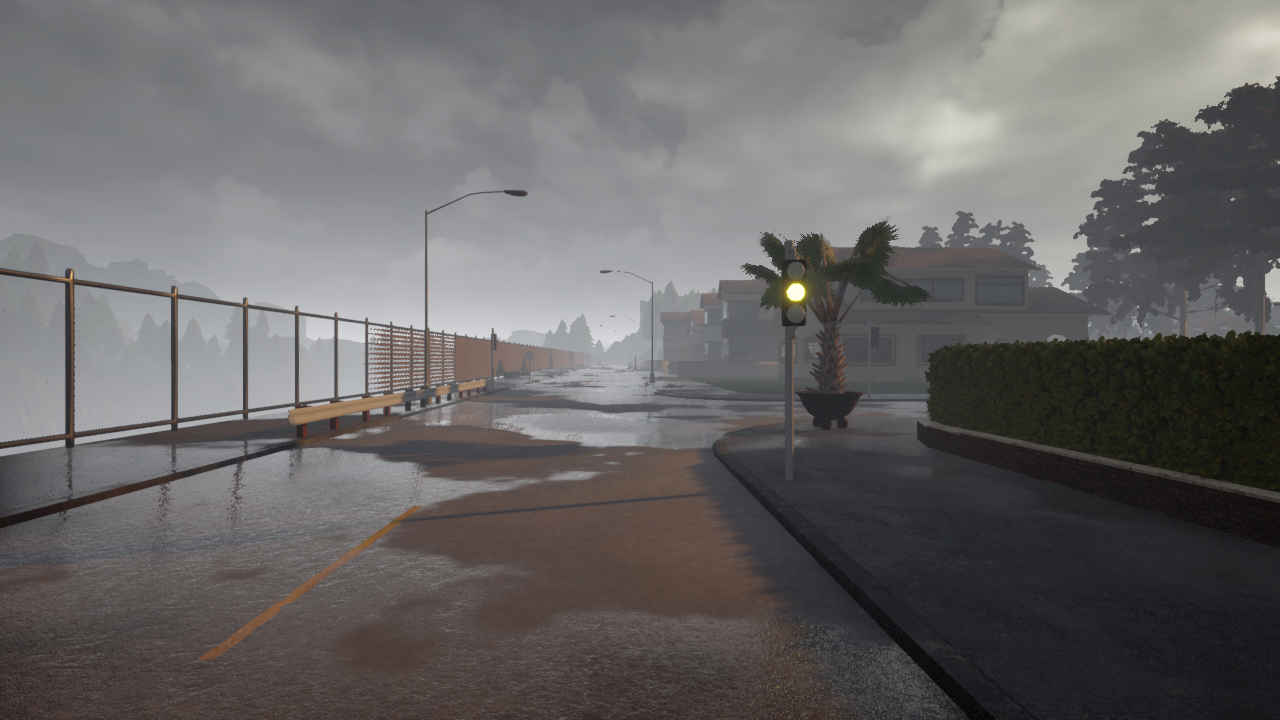yellow: (780, 259, 810, 326)
